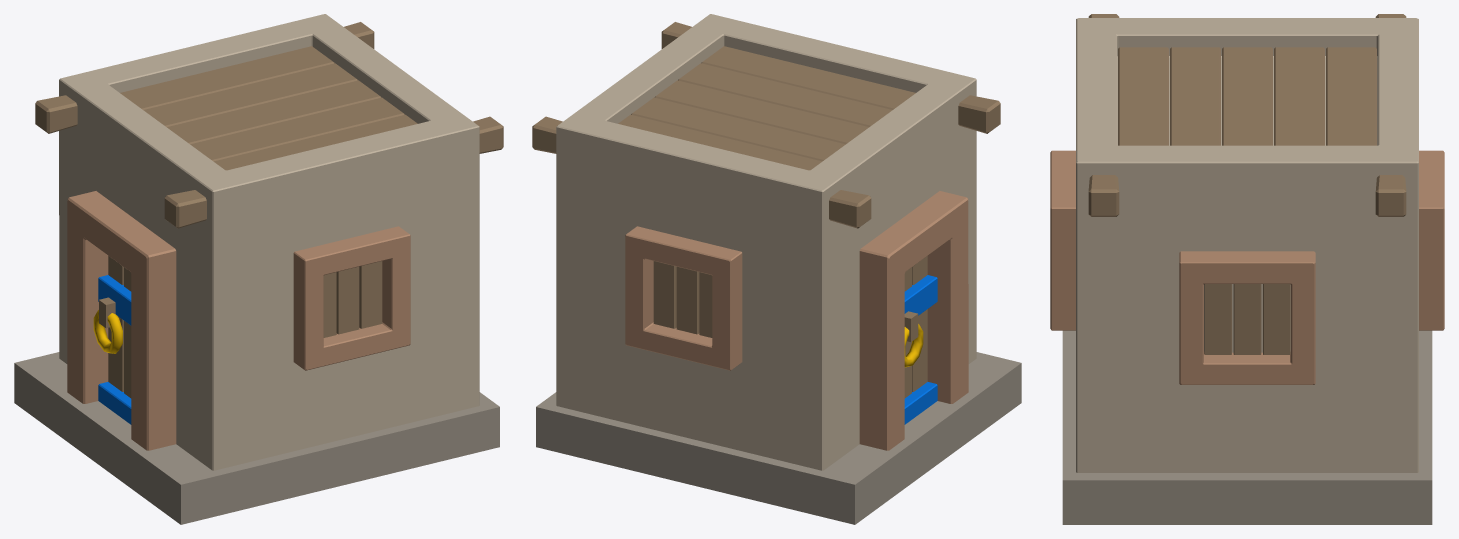
Rendered from mesh_shack_01.fbx.
3 views of the same model, side by side, from view 1: azimuth 30°, elevation 25°; view 2: azimuth 150°, elevation 25°; view 3: azimuth 270°, elevation 25° (orthographic). The views are drawn at different scales.
Parts seen in each view (by area): view 1: mesh_shack_01; view 2: mesh_shack_01; view 3: mesh_shack_01.
Part boxes in pixels (bbox=[...]): mesh_shack_01: bbox=[14, 14, 503, 524]; mesh_shack_01: bbox=[532, 14, 1021, 524]; mesh_shack_01: bbox=[1050, 14, 1444, 524].
Size of the model in its own units: 0.044 by 0.0401 by 0.0403.
